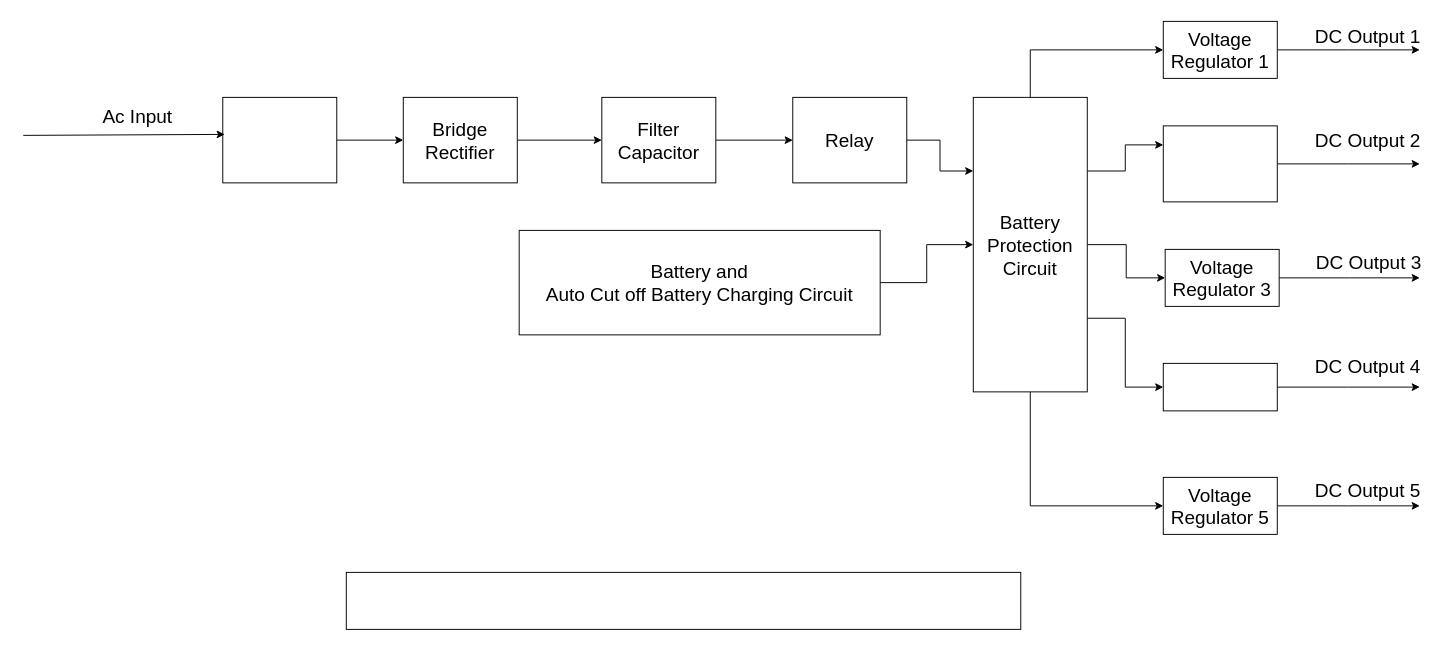
This 1447x646 diagram has some shape labels left out. Here are the shapes that lost their labels. From the top down, the centre of each, then its label:
At pixel 279 139: "Step down Transformer".
At pixel 1219 163: "Voltage Regulator 2".
At pixel 1219 386: "Voltage Regulator 4".
At pixel 683 600: "SMART POWER SUPPLY BLOCK DIAGRAM".
